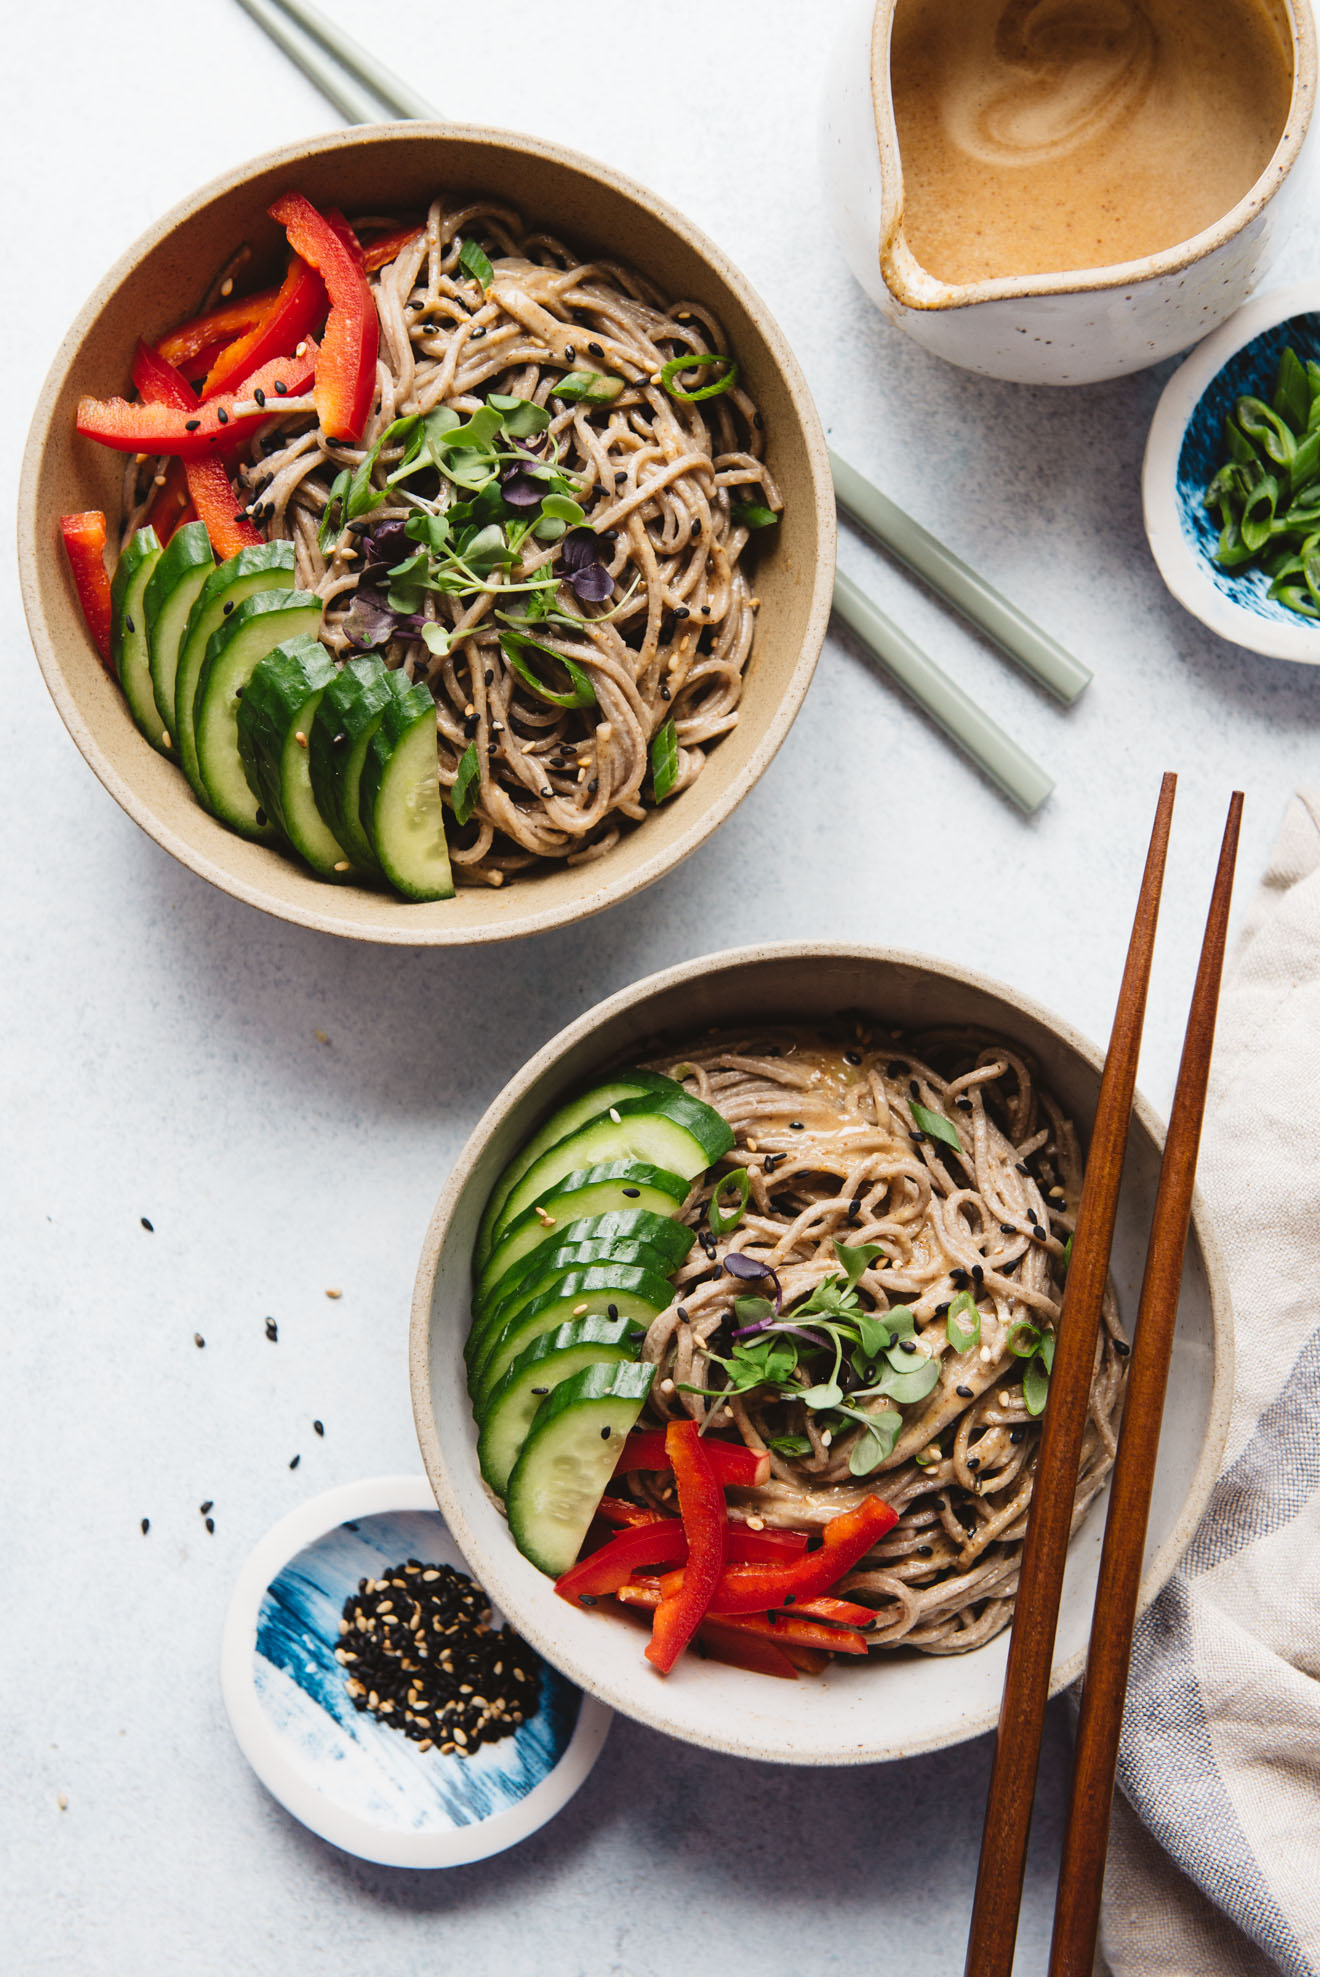Soba: (248, 190, 793, 905), (688, 1039, 1074, 1666)
